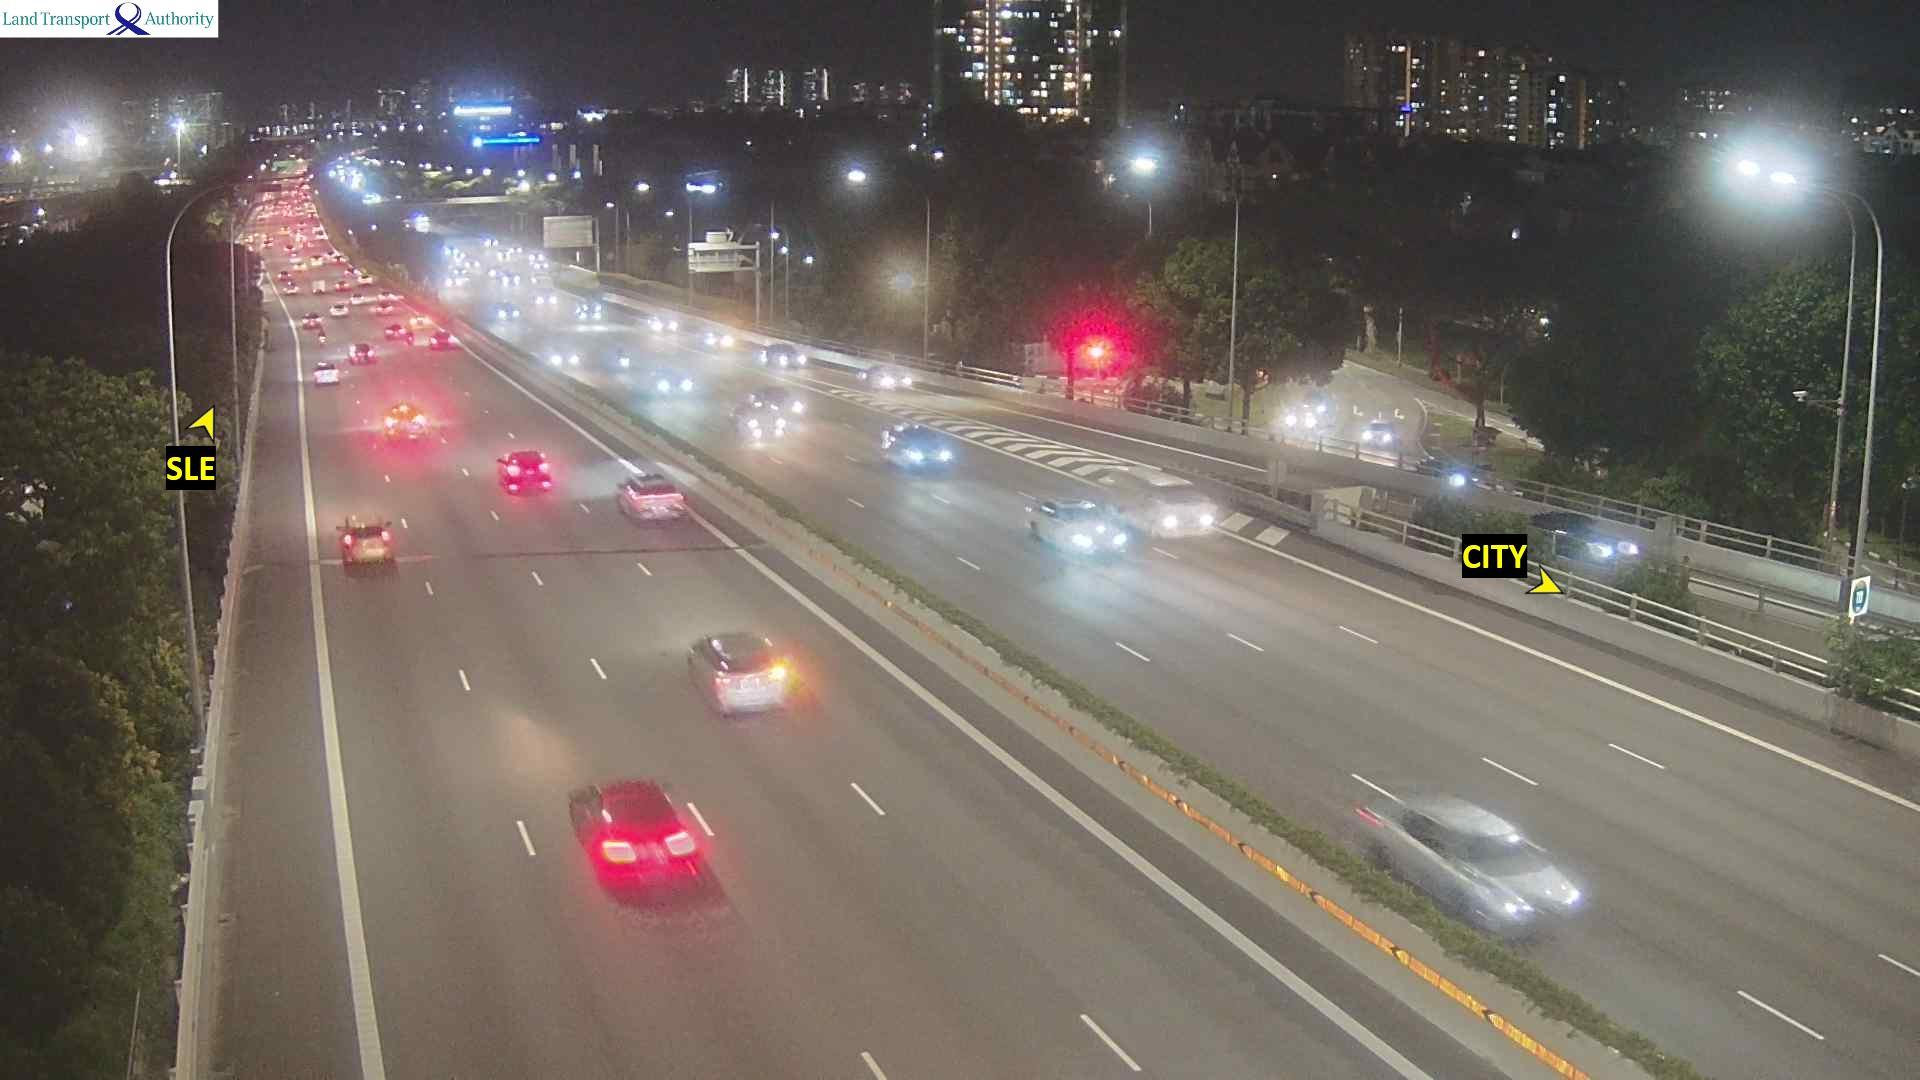incoming: (1447, 824, 1597, 943), (1055, 501, 1135, 563), (1142, 483, 1222, 543), (1572, 514, 1646, 567), (895, 427, 956, 475), (745, 406, 787, 439), (762, 389, 807, 415), (876, 364, 914, 392), (771, 343, 810, 368)
